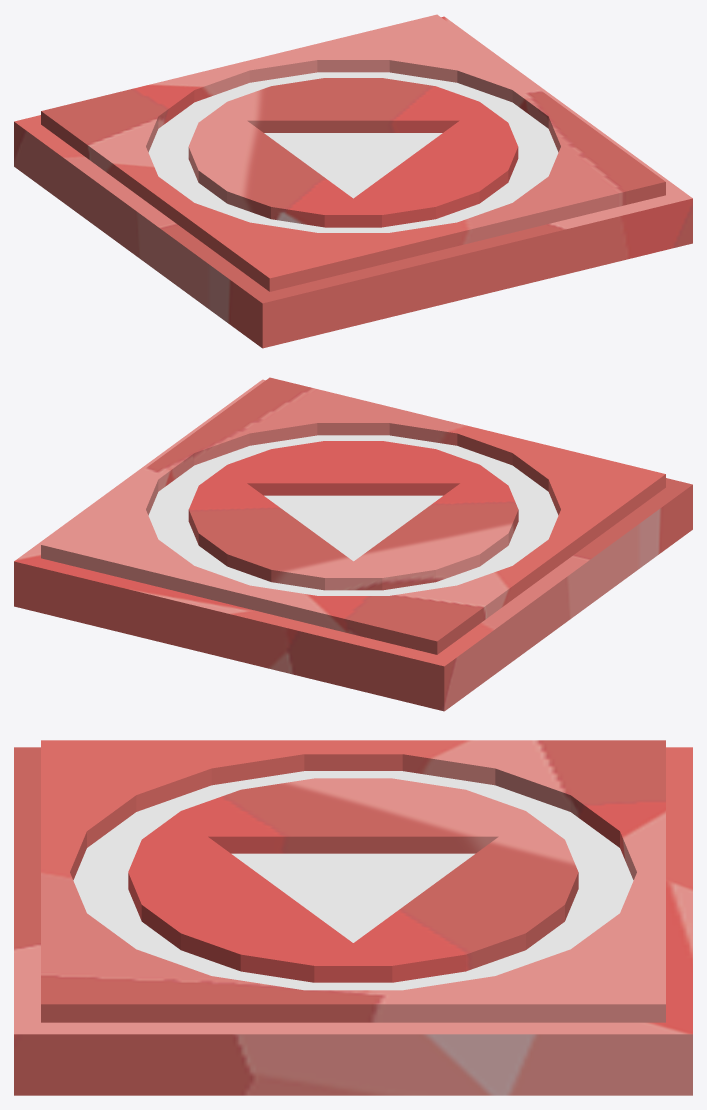
Rendered from Main_Orange.fbx.
3 renders of one model, top to bottom at view 1: azimuth 30°, elevation 25°; view 2: azimuth 150°, elevation 25°; view 3: azimuth 270°, elevation 25°, orthographic. The views are drawn at different scales.
Parts seen in each view (by area): view 1: Box002; view 2: Box002; view 3: Box002.
Boxes of the visible parts, x1=… form: Box002: x1=14, y1=14, x2=692, y2=348; Box002: x1=14, y1=377, x2=692, y2=711; Box002: x1=14, y1=740, x2=692, y2=1095.
Bounding box in the file's own units: 1 × 0.13 × 1.
Materials: 1 (1 with a texture image).
